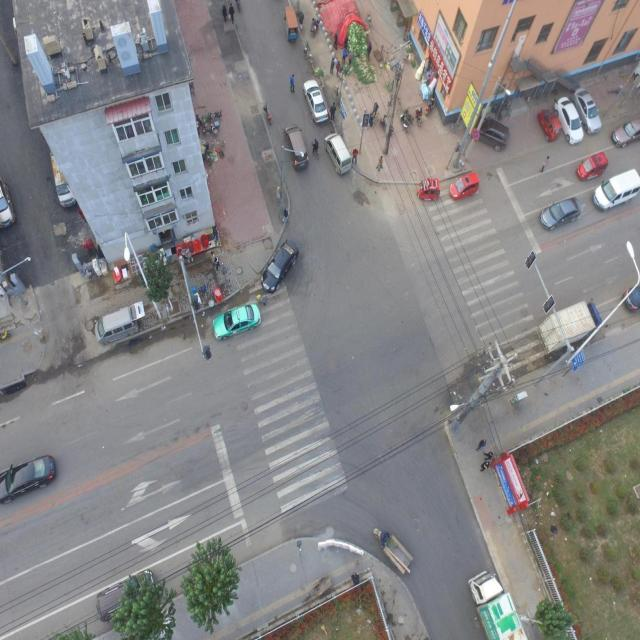p3rson: (540, 155, 549, 172), (380, 531, 390, 546), (228, 2, 235, 23), (184, 244, 192, 262), (475, 438, 486, 450), (329, 102, 336, 120), (212, 224, 219, 241), (298, 10, 304, 29), (213, 256, 220, 272), (351, 148, 358, 164), (370, 102, 378, 116), (479, 460, 489, 471), (289, 74, 295, 92), (78, 206, 85, 221), (366, 41, 371, 60), (312, 138, 318, 153), (329, 57, 334, 74), (351, 572, 358, 584), (367, 112, 373, 126), (210, 250, 215, 266), (483, 451, 493, 459), (222, 4, 226, 23), (333, 31, 337, 48), (282, 208, 287, 221), (344, 34, 348, 50), (342, 47, 346, 63), (262, 294, 267, 305)
